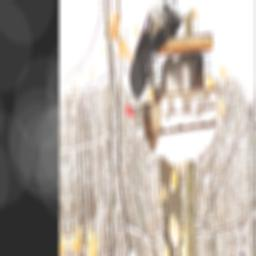Woodpecker: (119, 6, 181, 119)
